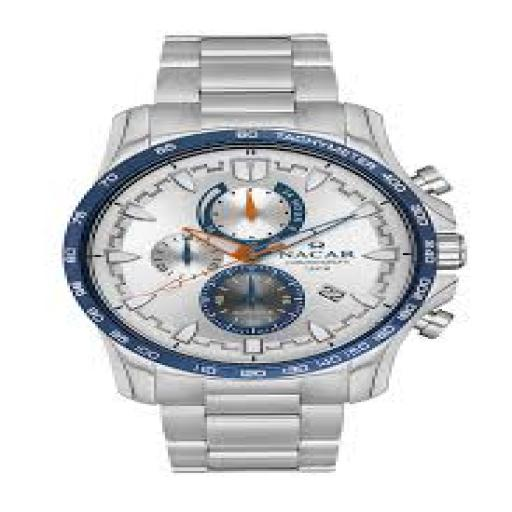KolSaati: (26, 15, 487, 482)
